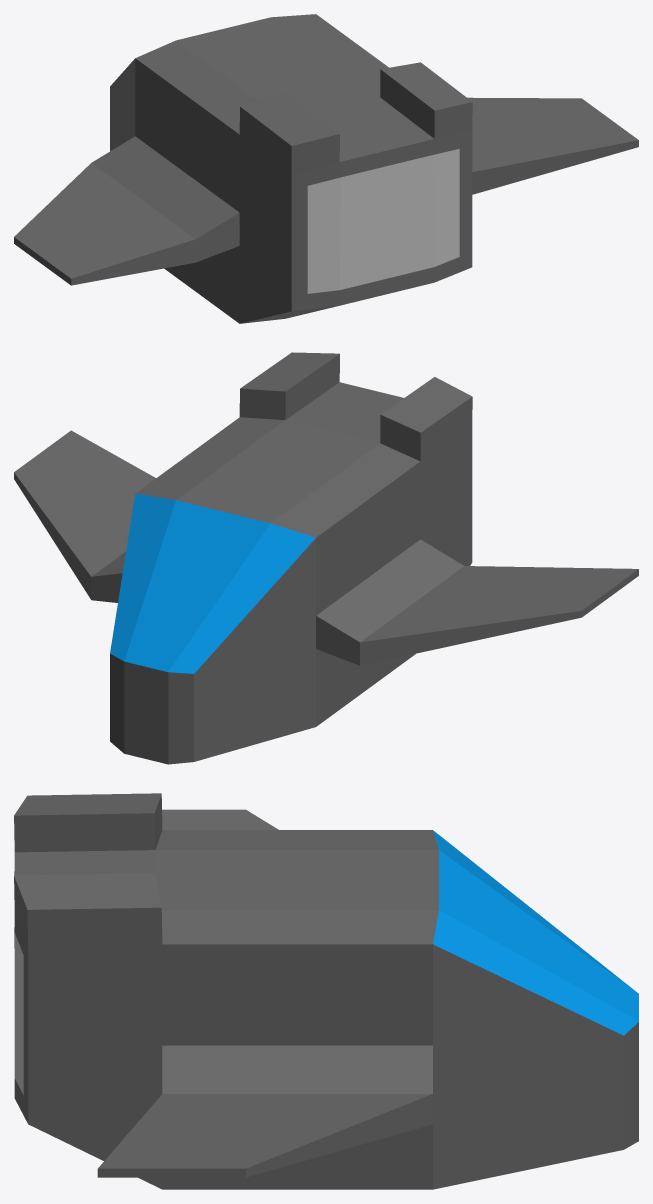
The model's file is ship.gltf.
3 renders of one model, top to bottom at view 1: azimuth 30°, elevation 25°; view 2: azimuth 150°, elevation 25°; view 3: azimuth 270°, elevation 25°, orthographic. The views are drawn at different scales.
Visible parts, largest first — view 1: Cube; view 2: Cube; view 3: Cube.
Boxes of the visible parts, x1,y1,x2,y2 form: Cube: (14,14,638,323); Cube: (14,352,638,764); Cube: (14,793,638,1189).
Bounding box in the file's own units: 6.28 × 2.4 × 4.62.
